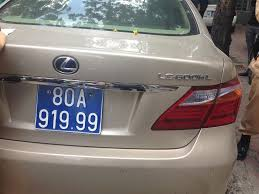Car number plates: (36, 83, 100, 134)
